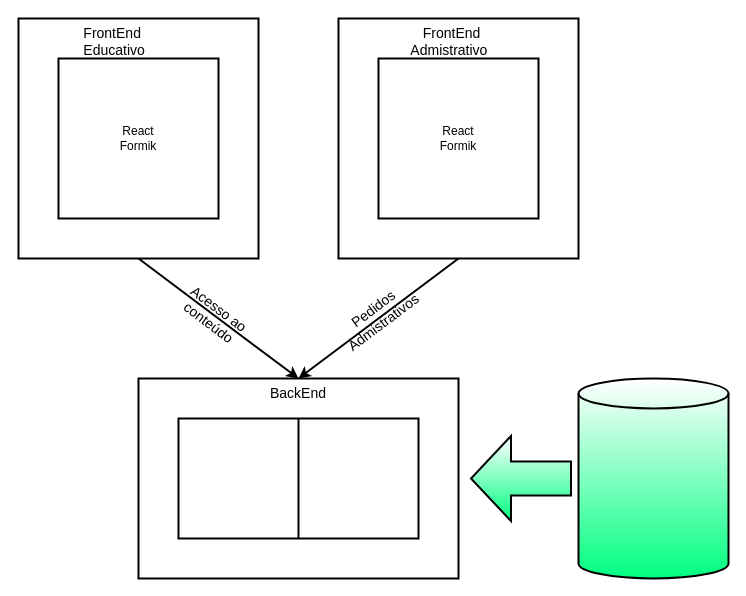
This 746x596 diagram has some shape labels left out. The shapes that lost their labels are listed below. From the top down, each one's box as (x1, y1, x2, y2) in pixels, then its label:
(177, 417, 419, 539): Express Mongo DB Protocol
(577, 377, 729, 579): Mongo DB
